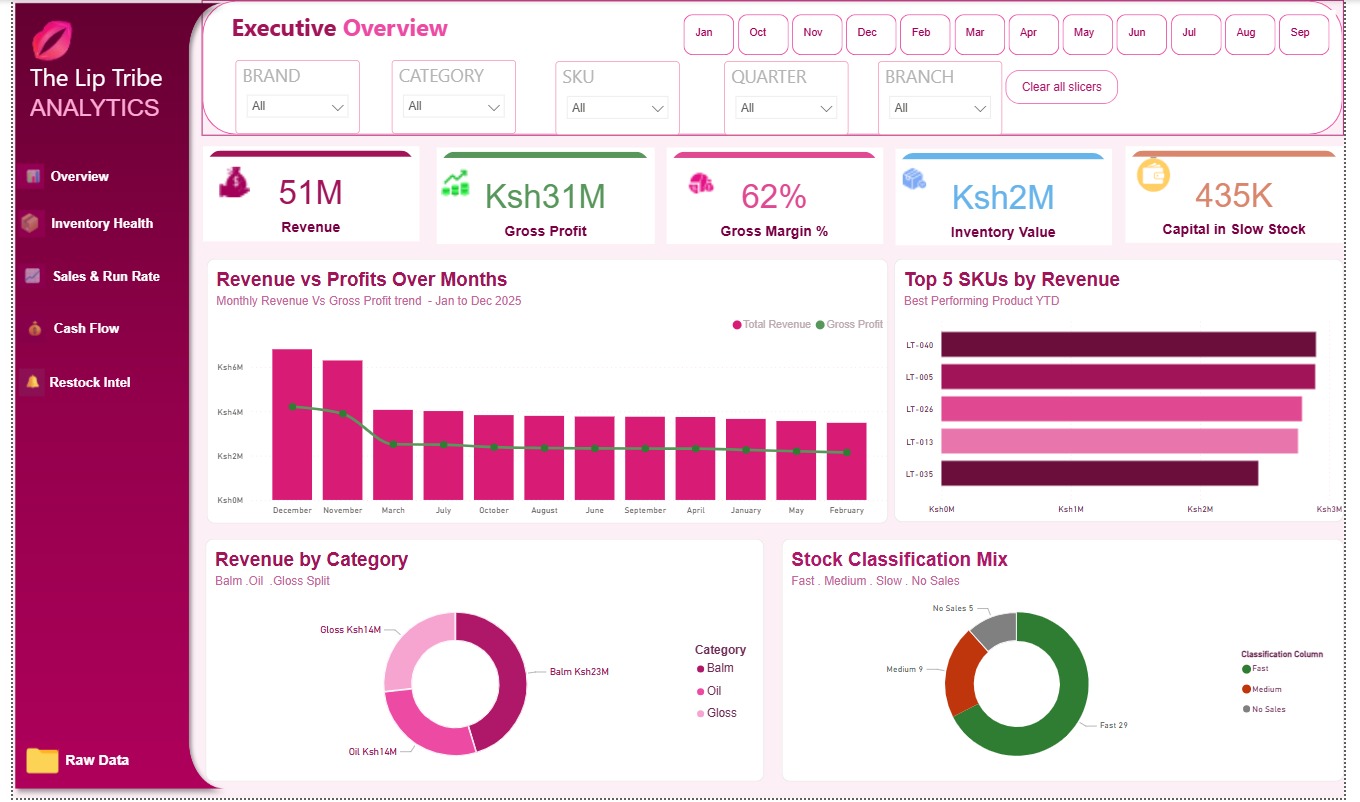

The dashboard page shown, as its layout file describes it:
{"tool":"powerbi","page":{"name":"Overview","canvas":[1500,900],"ordinal":0},"visuals":[{"type":"textbox","box":[240.4,7.6,395.8,55.3],"z":0,"group":"g9"},{"type":"group","id":"g1","title":"Group 1","box":[214,165.1,244,107],"z":0,"group":"g6"},{"type":"shape","box":[212.5,0,1287,152.9],"z":1000},{"type":"advancedSlicerVisual","fields":{"Values":["Calendar.Month_Short"]},"box":[750.5,11.6,739.8,56.9],"z":1000,"group":"g9"},{"type":"group","id":"g2","title":"Group 2","box":[477,166.6,245.7,108.5],"z":1000,"group":"g6"},{"type":"lineClusteredColumnComboChart","title":"Revenue vs Profits Over Months","fields":{"Category":["Calendar.Month_Name"],"Y":["Sales.Total Revenue"],"Y2":["Sales.Gross Profit"]},"box":[218.6,292,767.9,298.1],"z":1000,"group":"g7"},{"type":"image","box":[0,0,246.1,900.3],"z":2000},{"type":"slicer","title":"BRAND","fields":{"Values":["Products.Brand"]},"box":[249.8,68.5,140.3,82.9],"z":2000,"group":"g9"},{"type":"group","id":"g3","title":"Group 3","box":[736.5,166.6,244,108.5],"z":2000,"group":"g6"},{"type":"textbox","title":"The Lip Tribe","box":[13.8,67.3,304.2,39.7],"z":3000},{"type":"slicer","title":"CATEGORY","fields":{"Values":["Products.Category"]},"box":[426.5,68.5,140.3,82.9],"z":3000,"group":"g9"},{"type":"group","id":"g4","title":"Group 4","box":[987.4,168.2,250.9,108.5],"z":3000,"group":"g6"},{"type":"donutChart","title":"Revenue by Category","fields":{"Category":["Products.Category"],"Y":["Sales.Total Revenue"]},"box":[217.1,606.8,630,273.6],"z":3000,"group":"g8"},{"type":"slicer","title":"QUARTER","fields":{"Values":["Calendar.Quarter"]},"box":[800.8,70.2,140.3,82.9],"z":4000,"group":"g9"},{"type":"textbox","title":"ANALYTICS","box":[13.8,107,293.5,44.3],"z":4000},{"type":"group","id":"g5","title":"Group 5","box":[1253.8,165.1,245.7,108.5],"z":4000,"group":"g6"},{"type":"barChart","title":"Top 5 SKUs by Revenue","fields":{"Category":["Products.SKU"],"Y":["Sales.Total Revenue"]},"box":[993.4,292,506.1,296.5],"z":4000,"group":"g7"},{"type":"image","box":[0,7.6,89.2,71.3],"z":5000},{"type":"slicer","title":"SKU","fields":{"Values":["Products.SKU"]},"box":[610.2,70.2,140.3,82.9],"z":5000,"group":"g9"},{"type":"donutChart","title":"Stock Classification Mix","fields":{"Category":["Products.Classification Column"],"Y":["CountNonNull(Products.SKU)"]},"box":[866.1,606.8,633.4,273.6],"z":5000,"group":"g8"},{"type":"slicer","title":"BRANCH","fields":{"Values":["Products.Branch"]},"box":[974,70.2,140.3,82.9],"z":6000,"group":"g9"},{"type":"actionButton","box":[0,179.6,150.3,39.5],"z":6000},{"type":"actionButton","box":[1.3,231.8,198.7,39.5],"z":7000},{"type":"actionButton","box":[1.3,291.7,168.1,39.5],"z":8000},{"type":"actionButton","box":[1.3,350.3,122.3,39.5],"z":9000},{"type":"actionButton","box":[1.3,411.4,135,39.5],"z":10000},{"type":"group","id":"g6","title":"Group 6","box":[214,165.1,1285.5,111.6],"z":11000},{"type":"group","id":"g7","title":"Group 7","box":[218.6,292,1280.9,298.1],"z":12000},{"type":"group","id":"g8","title":"Group 8","box":[217.1,606.8,1282.4,273.6],"z":13000},{"type":"group","id":"g9","title":"Group 9","box":[10.7,7.6,1479.6,872.8],"z":14000},{"type":"cardVisual","fields":{"Data":["Sales.Gross Profit"]},"box":[477,166.6,245.7,108.5],"z":14000,"group":"g2"},{"type":"actionButton","box":[1118.9,79.5,126.9,38.2],"z":15000},{"type":"cardVisual","fields":{"Data":["Sales.Total Revenue"]},"box":[214,165.1,244,107],"z":15000,"group":"g1"},{"type":"cardVisual","fields":{"Data":["Sales.Gross Margin %"]},"box":[736.5,166.6,244,108.5],"z":16000,"group":"g3"},{"type":"actionButton","box":[10.7,836.5,123.8,43.9],"z":16008,"group":"g9"},{"type":"image","box":[214,183.4,70.9,44.3],"z":17000,"group":"g1"},{"type":"image","box":[477,184.9,41.5,42.8],"z":18000,"group":"g2"},{"type":"image","box":[748.6,186.5,51.9,41.3],"z":19000,"group":"g3"},{"type":"cardVisual","fields":{"Data":["Sales.Inventory Value"]},"box":[994.3,168.2,244,108.5],"z":20000,"group":"g4"},{"type":"image","box":[987.4,183.5,57.1,36.7],"z":21000,"group":"g4"},{"type":"cardVisual","fields":{"Data":["Sales.Capital in Slow Stock"]},"box":[1253.8,165.1,245.7,108.5],"z":22000,"group":"g5"},{"type":"image","box":[1253.8,171.2,60.6,52],"z":23000,"group":"g5"}]}

Visuals, with their boxes on the page's 1500x900 design canvas (x1, y1, x2, y2). These are canvas units, not pixel positions in the 1360x802 screenshot, which may show the page scaled, cropped or inside an application window:
textbox: detection(240, 8, 636, 63)
"Group 1" group: detection(214, 165, 458, 272)
shape: detection(212, 0, 1500, 153)
advancedSlicerVisual - Calendar.Month_Short: detection(750, 12, 1490, 68)
"Group 2" group: detection(477, 167, 723, 275)
"Revenue vs Profits Over Months" lineClusteredColumnComboChart: detection(219, 292, 986, 590)
image: detection(0, 0, 246, 900)
"BRAND" slicer: detection(250, 68, 390, 151)
"Group 3" group: detection(736, 167, 980, 275)
"The Lip Tribe" textbox: detection(14, 67, 318, 107)
"CATEGORY" slicer: detection(426, 68, 567, 151)
"Group 4" group: detection(987, 168, 1238, 277)
"Revenue by Category" donutChart: detection(217, 607, 847, 880)
"QUARTER" slicer: detection(801, 70, 941, 153)
"ANALYTICS" textbox: detection(14, 107, 307, 151)
"Group 5" group: detection(1254, 165, 1500, 274)
"Top 5 SKUs by Revenue" barChart: detection(993, 292, 1500, 588)
image: detection(0, 8, 89, 79)
"SKU" slicer: detection(610, 70, 750, 153)
"Stock Classification Mix" donutChart: detection(866, 607, 1500, 880)
"BRANCH" slicer: detection(974, 70, 1114, 153)
actionButton: detection(0, 180, 150, 219)
actionButton: detection(1, 232, 200, 271)
actionButton: detection(1, 292, 169, 331)
actionButton: detection(1, 350, 124, 390)
actionButton: detection(1, 411, 136, 451)
"Group 6" group: detection(214, 165, 1500, 277)
"Group 7" group: detection(219, 292, 1500, 590)
"Group 8" group: detection(217, 607, 1500, 880)
"Group 9" group: detection(11, 8, 1490, 880)
cardVisual - Sales.Gross Profit: detection(477, 167, 723, 275)
actionButton: detection(1119, 80, 1246, 118)
cardVisual - Sales.Total Revenue: detection(214, 165, 458, 272)
cardVisual - Sales.Gross Margin %: detection(736, 167, 980, 275)
actionButton: detection(11, 836, 134, 880)
image: detection(214, 183, 285, 228)
image: detection(477, 185, 518, 228)
image: detection(749, 186, 800, 228)
cardVisual - Sales.Inventory Value: detection(994, 168, 1238, 277)
image: detection(987, 184, 1044, 220)
cardVisual - Sales.Capital in Slow Stock: detection(1254, 165, 1500, 274)
image: detection(1254, 171, 1314, 223)
